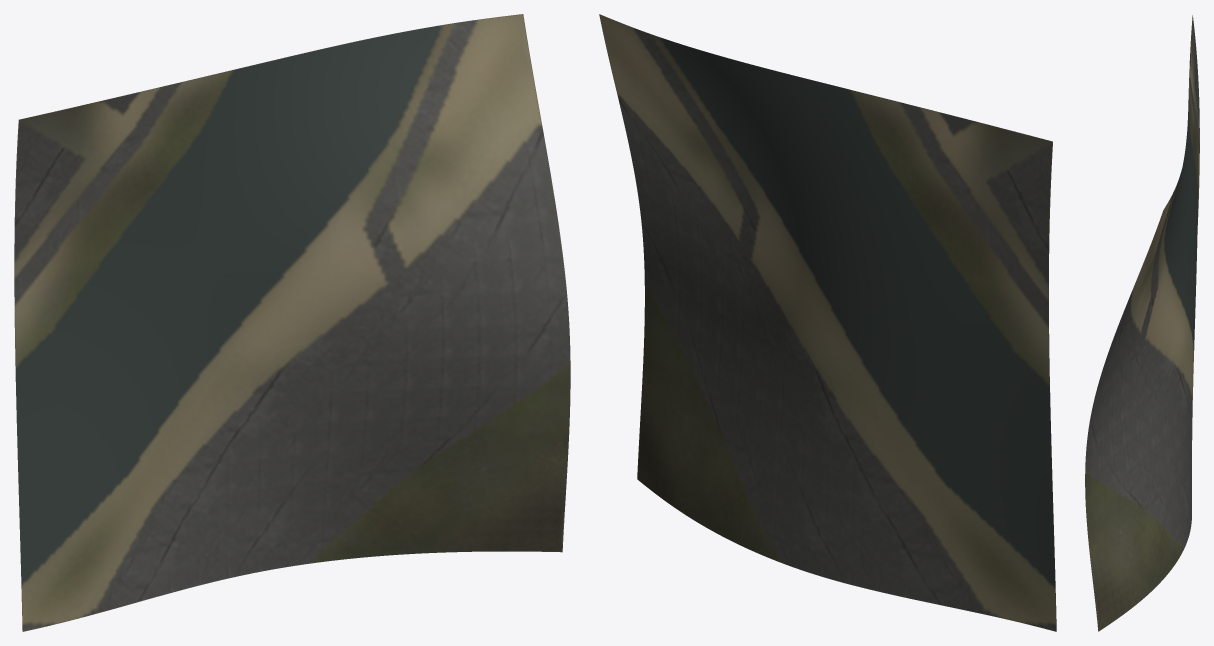
Rendered from ground_core_07_01.obj.
3 views of the same model, side by side, from view 1: azimuth 30°, elevation 25°; view 2: azimuth 150°, elevation 25°; view 3: azimuth 270°, elevation 25° (orthographic). The views are drawn at different scales.
Parts seen in each view (by area): view 1: ground_core_07_01; view 2: ground_core_07_01; view 3: ground_core_07_01.
Part boxes in pixels (bbox=[...]): ground_core_07_01: bbox=[14, 14, 570, 631]; ground_core_07_01: bbox=[599, 14, 1056, 631]; ground_core_07_01: bbox=[1085, 15, 1199, 631].
Size of the model in its own units: 50 by 50 by 12.34.
Materials: 1 (1 with a texture image).
